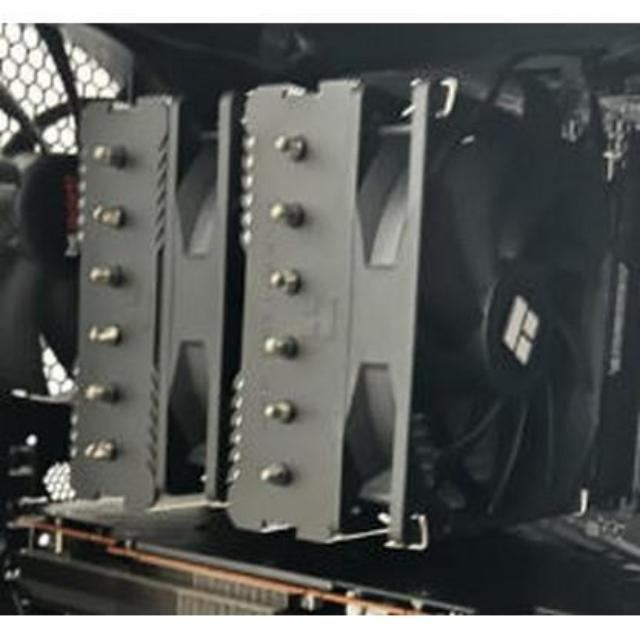CPU_Fan: (72, 64, 580, 542)
